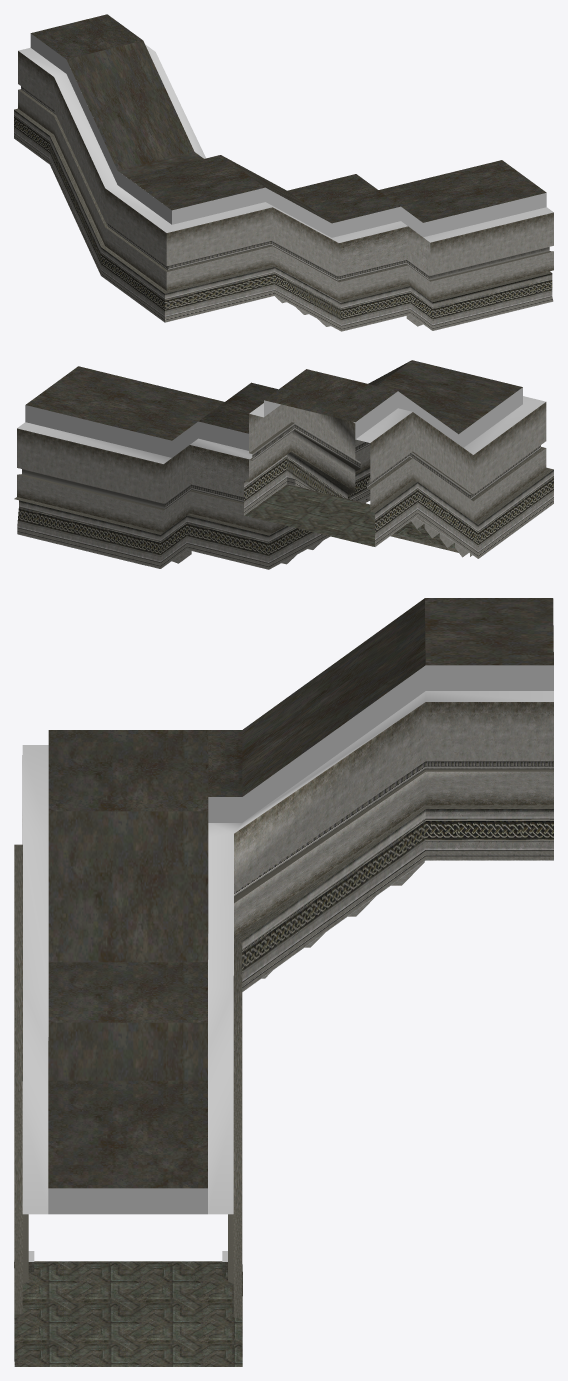
File: DWARF_PALACE_EREBOR_ROOMB01.obj
3 renders of one model, top to bottom at view 1: azimuth 30°, elevation 25°; view 2: azimuth 150°, elevation 25°; view 3: azimuth 270°, elevation 25°, orthographic. The views are drawn at different scales.
Parts seen in each view (by area): view 1: erebor_roomB01; view 2: erebor_roomB01; view 3: erebor_roomB01.
Boxes of the visible parts, x1,y1,x2,y2 form: erebor_roomB01: [14, 14, 553, 331]; erebor_roomB01: [14, 360, 553, 569]; erebor_roomB01: [14, 598, 553, 1366].
Bounding box in the file's own units: 2832 × 1720 × 1894.
